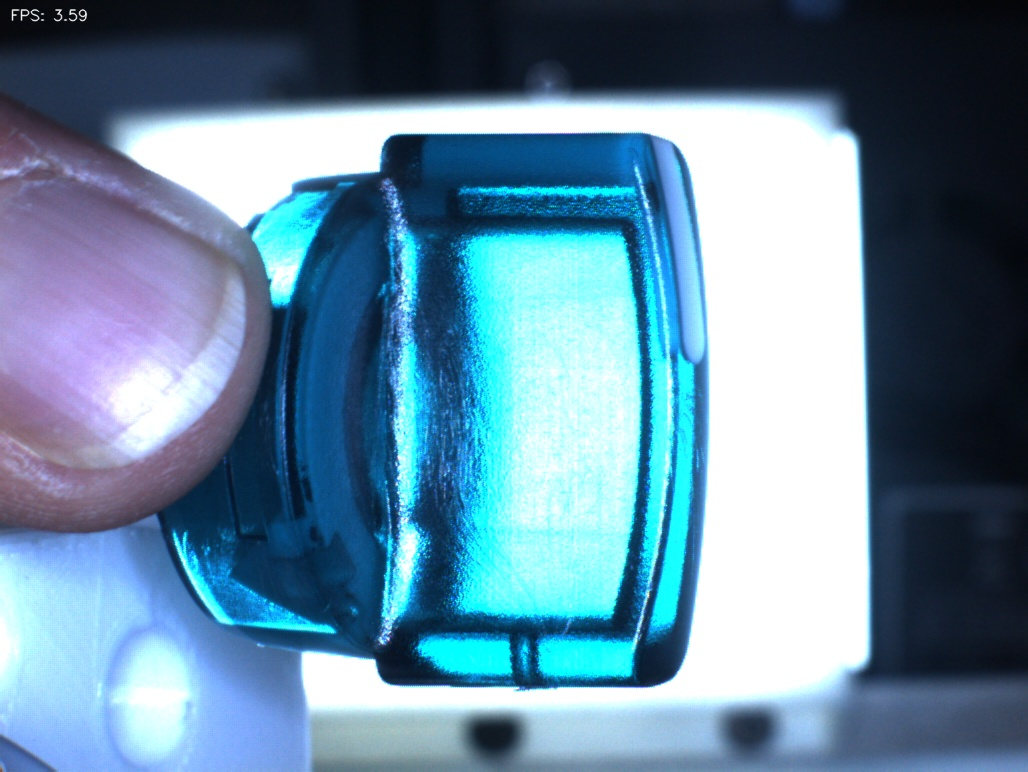Bulle: (484, 589, 573, 710)
